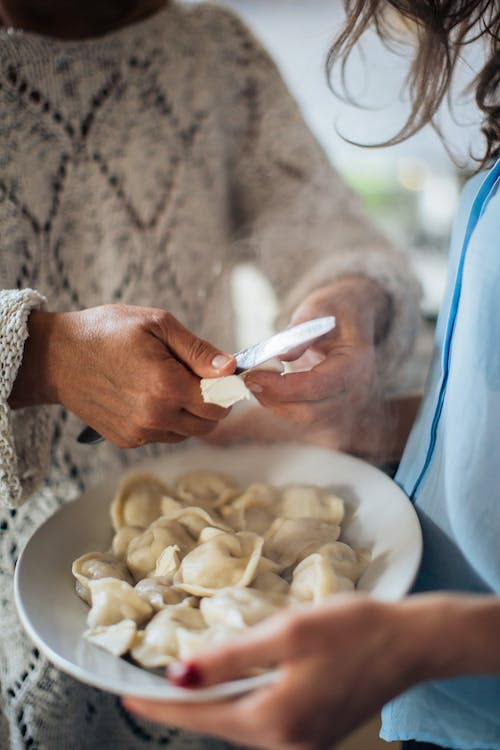knife: (228, 312, 339, 378)
